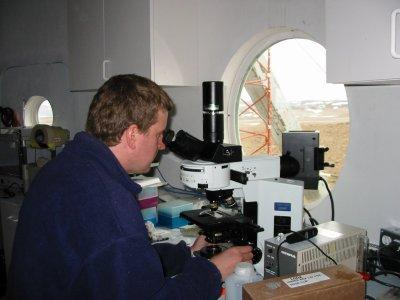person: (7, 75, 254, 300)
